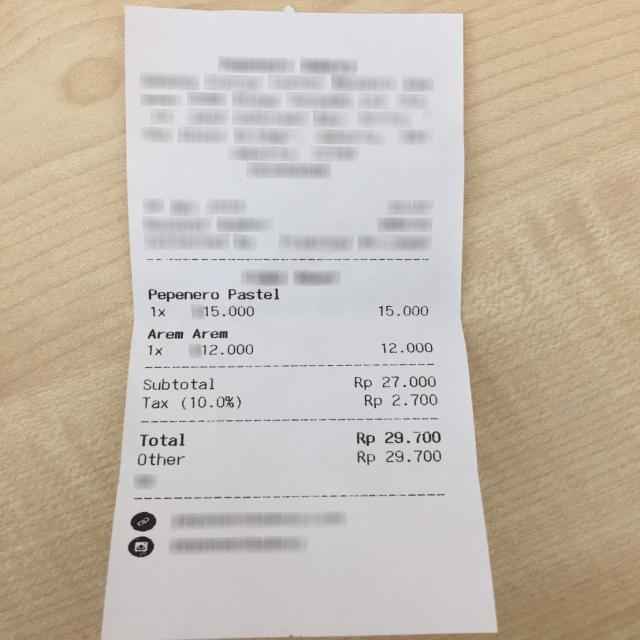kertas: (102, 6, 502, 640)
